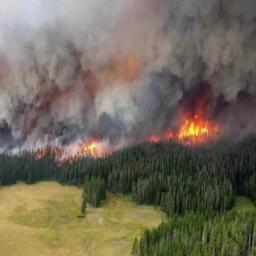Heavy smoke: (3, 3, 256, 150)
Small fire: (163, 103, 254, 151)
